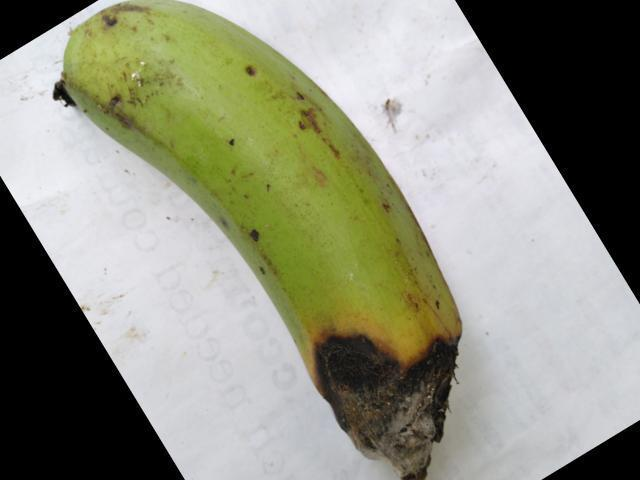rotten: (265, 262, 476, 479)
unripe: (70, 0, 445, 296)
